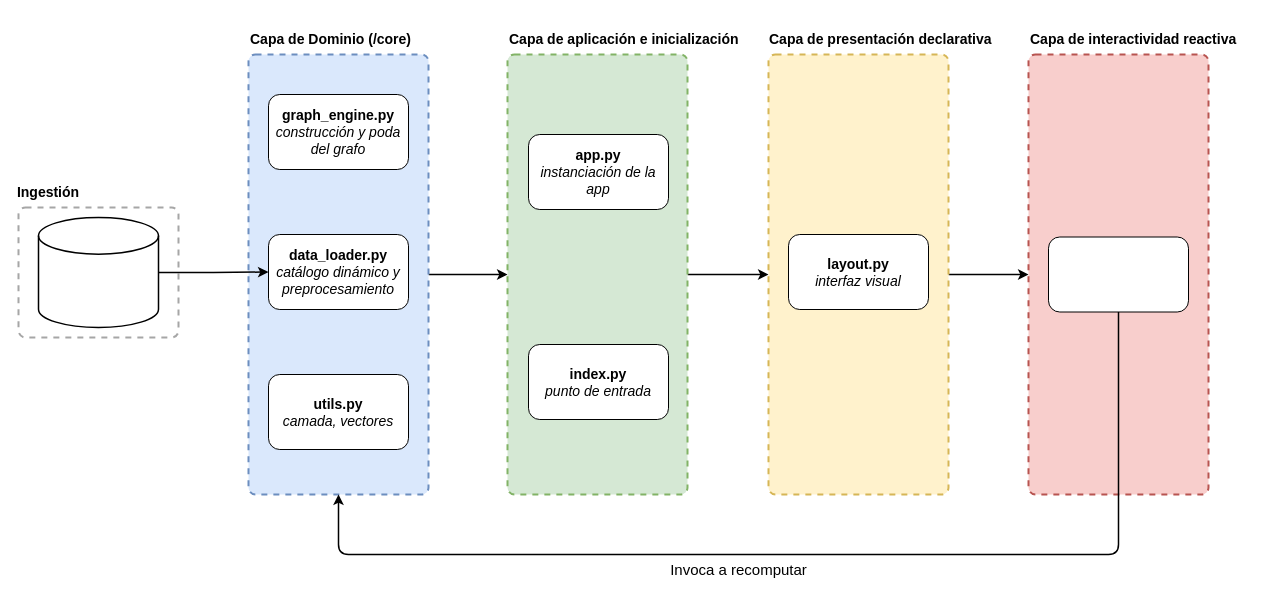
Some shapes in this 1285 by 611 pixel diagram are drawn without their labels. The centre of each missing label's shape, as x and y in pixels:
callbacks.py @app.callback: (x=1118, y=274)
Registros del SIU-Guaraní Excel (.xlsx): (x=98, y=272)
